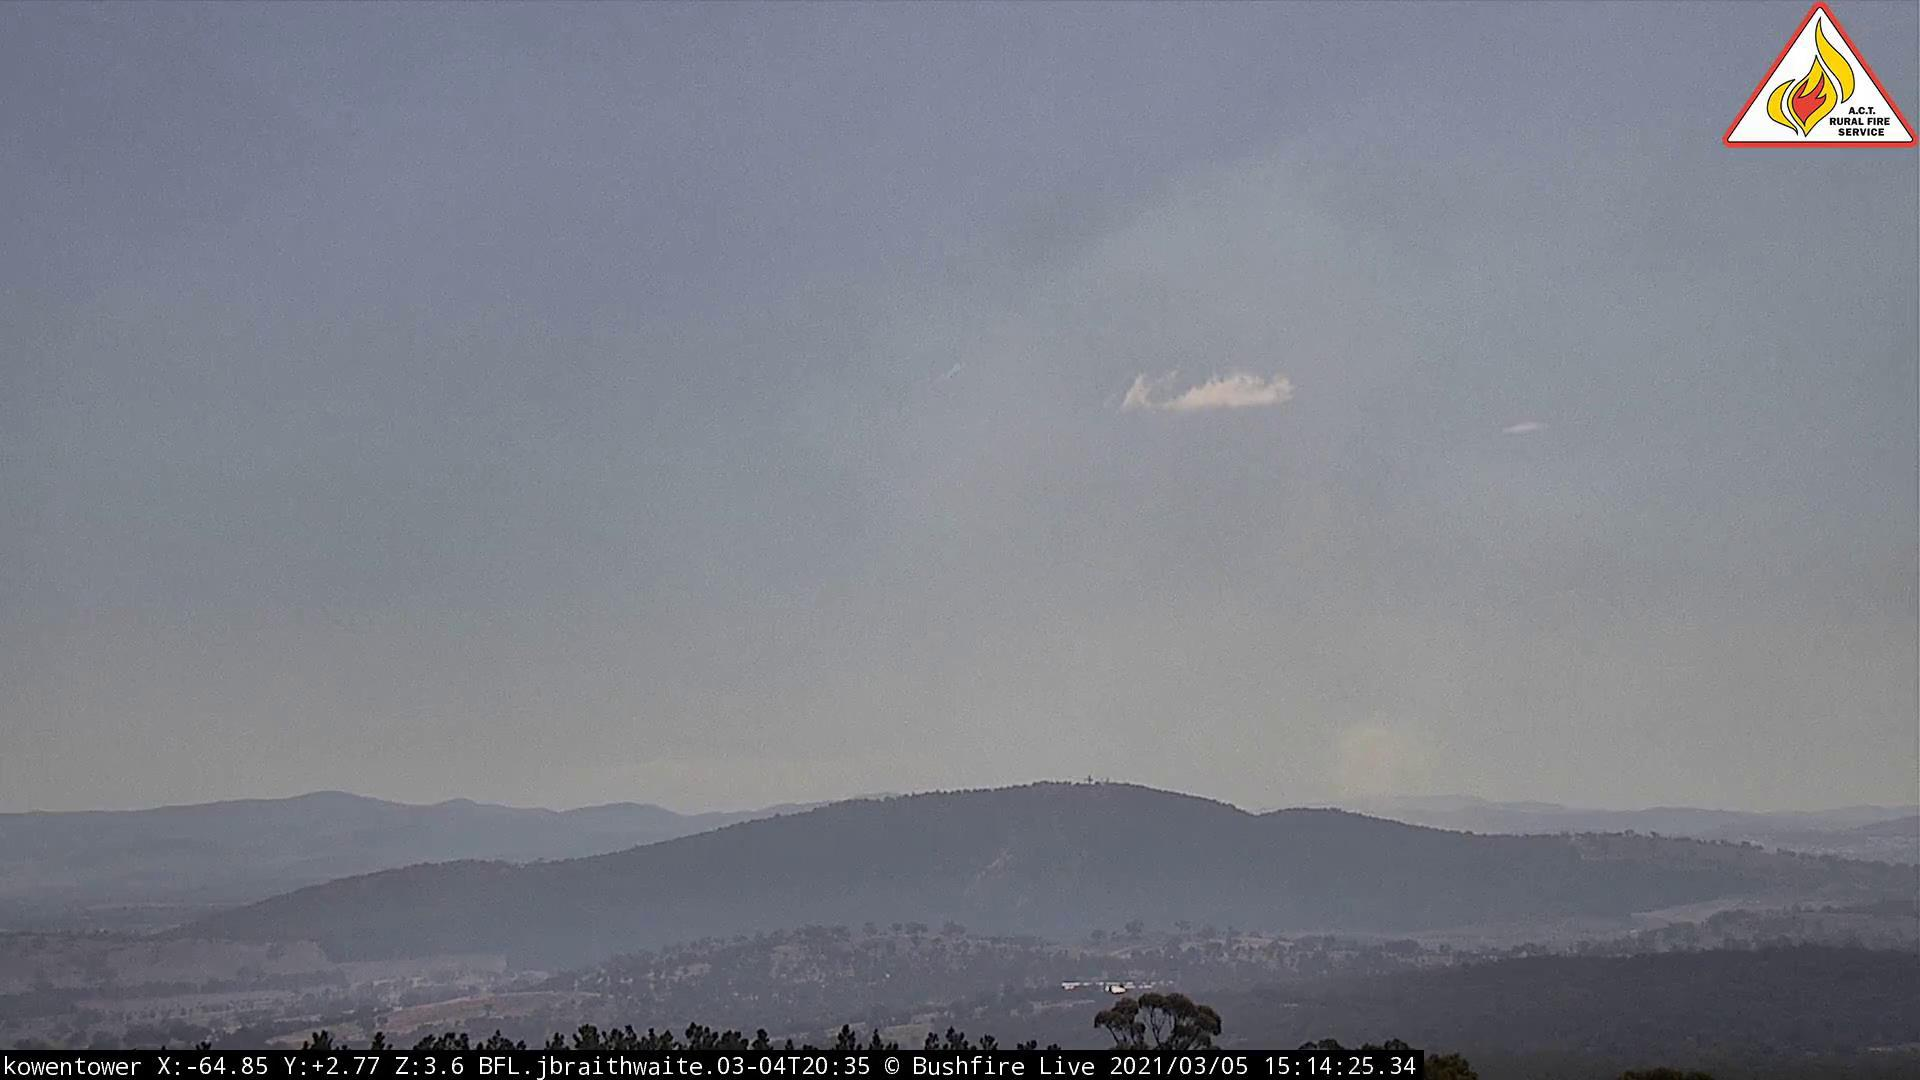Smoke: (794, 305, 1440, 833)
